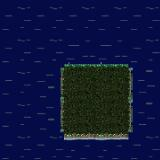Slow: (0, 0, 59, 160), (59, 0, 134, 62), (133, 0, 160, 160), (58, 141, 133, 160)
